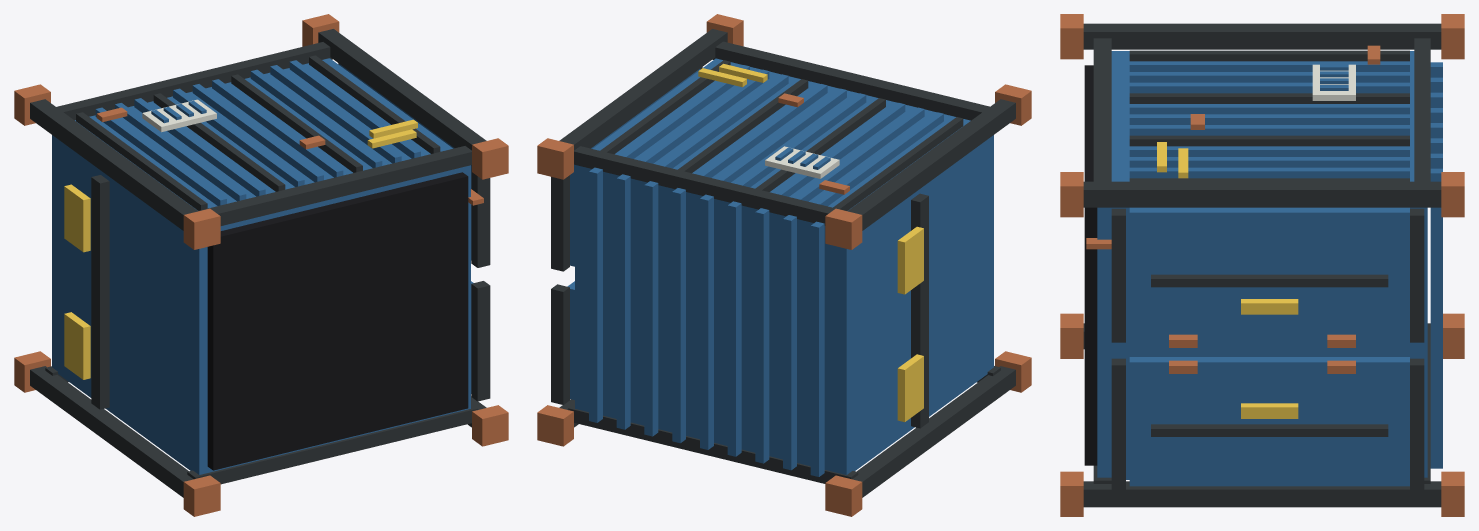
File: approved_container_v1.glb
3 renders of one model, left to right at view 1: azimuth 30°, elevation 25°; view 2: azimuth 150°, elevation 25°; view 3: azimuth 270°, elevation 25°, orthographic. The views are drawn at different scales.
Parts seen in each view (by area): view 1: container_shadow_gap, container_main_body, side_bottom_rail_0.445, corner_post_-0.52_0.46, corner_post_-0.52_-0.46, corner_post_0.52_0.46, front_panel_crossbar, side_top_rail_0.445, side_bottom_rail_-0.445, rear_door_frame_-0.23_bottom, side_corrugation_rib_09_front, side_corrugation_rib_00_front (+22 smaller); view 2: container_main_body, side_bottom_rail_0.445, side_top_rail_0.445, corner_post_-0.52_0.46, corner_post_-0.52_-0.46, corner_post_0.52_0.46, roof_corrugation_03, roof_corrugation_07, roof_corrugation_06, roof_corrugation_00, roof_corrugation_02, roof_corrugation_04 (+32 smaller); view 3: rear_door_panel_0.23, rear_door_panel_-0.23, container_main_body, corner_post_0.52_0.46, corner_post_-0.52_0.46, corner_post_0.52_-0.46, container_shadow_gap, roof_corrugation_08, door_lock_bar_0.23, side_corrugation_rib_08_front, side_corrugation_rib_00_front, side_corrugation_rib_11_front (+29 smaller).
Part boxes in pixels (bbox=[...]): container_shadow_gap: bbox=[207, 172, 468, 470]; container_main_body: bbox=[52, 58, 470, 474]; side_bottom_rail_0.445: bbox=[198, 146, 471, 225]; corner_post_-0.52_0.46: bbox=[30, 99, 197, 230]; corner_post_-0.52_-0.46: bbox=[30, 366, 193, 497]; corner_post_0.52_0.46: bbox=[318, 29, 486, 150]; front_panel_crossbar: bbox=[91, 175, 109, 409]; side_top_rail_0.445: bbox=[56, 42, 332, 120]; side_bottom_rail_-0.445: bbox=[187, 403, 477, 484]; rear_door_frame_-0.23_bottom: bbox=[471, 281, 490, 401]; side_corrugation_rib_09_front: bbox=[250, 69, 382, 167]; side_corrugation_rib_00_front: bbox=[76, 112, 207, 210]; container_main_body: bbox=[575, 58, 993, 474]; side_bottom_rail_0.445: bbox=[712, 41, 989, 120]; side_top_rail_0.445: bbox=[574, 146, 837, 225]; corner_post_-0.52_0.46: bbox=[848, 99, 1015, 230]; corner_post_-0.52_-0.46: bbox=[852, 366, 1015, 497]; corner_post_0.52_0.46: bbox=[559, 29, 727, 150]; roof_corrugation_03: bbox=[727, 201, 741, 456]; roof_corrugation_07: bbox=[616, 174, 630, 429]; roof_corrugation_06: bbox=[644, 181, 658, 436]; roof_corrugation_00: bbox=[810, 221, 824, 476]; roof_corrugation_02: bbox=[755, 208, 769, 463]; roof_corrugation_04: bbox=[700, 194, 713, 449]; rear_door_panel_0.23: bbox=[1129, 207, 1409, 336]; rear_door_panel_-0.23: bbox=[1129, 357, 1409, 486]; container_main_body: bbox=[1097, 51, 1427, 479]; corner_post_0.52_0.46: bbox=[1083, 181, 1441, 207]; corner_post_-0.52_0.46: bbox=[1083, 23, 1441, 49]; corner_post_0.52_-0.46: bbox=[1083, 481, 1441, 507]; container_shadow_gap: bbox=[1084, 65, 1097, 465]; roof_corrugation_08: bbox=[1430, 207, 1442, 468]; door_lock_bar_0.23: bbox=[1151, 274, 1388, 287]; side_corrugation_rib_08_front: bbox=[1129, 135, 1409, 146]; side_corrugation_rib_00_front: bbox=[1129, 50, 1409, 61]; side_corrugation_rib_11_front: bbox=[1129, 167, 1409, 178].
Size of the model in its own units: 1.2 by 1.02 by 1.12.
